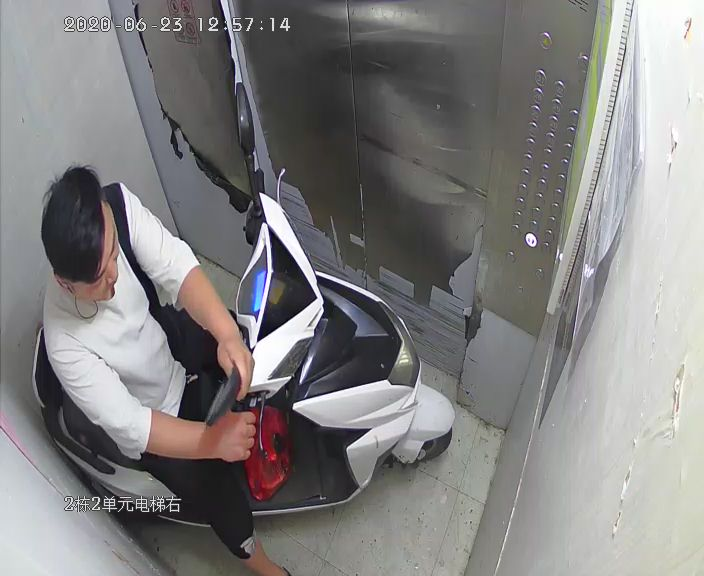Electric-bicycle: (32, 169, 453, 516)
